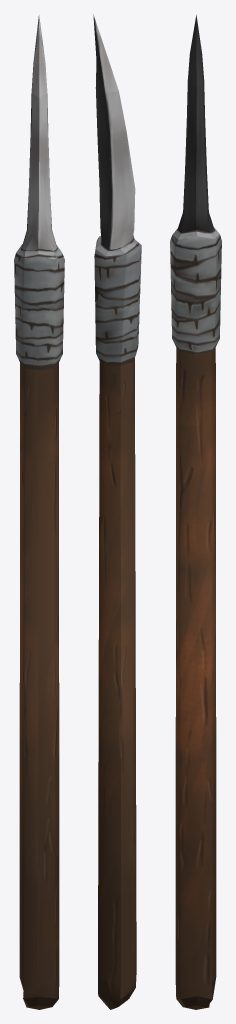
The model's file is SurvivalTools_Spear.fbx.
The picture shows the model from 3 angles, left to right: view 1: azimuth 90°, elevation 25°; view 2: azimuth 150°, elevation 25°; view 3: azimuth 270°, elevation 25°; orthographic projection. The views are drawn at different scales.
Parts seen in each view (by area): view 1: Spear_MDL; view 2: Spear_MDL; view 3: Spear_MDL.
Part boxes in pixels (x1=…): Spear_MDL: x1=14, y1=15, x2=64, y2=1009; Spear_MDL: x1=93, y1=14, x2=141, y2=1009; Spear_MDL: x1=170, y1=14, x2=221, y2=1009.
Bounding box in the file's own units: 1.58 × 32.04 × 1.5.
